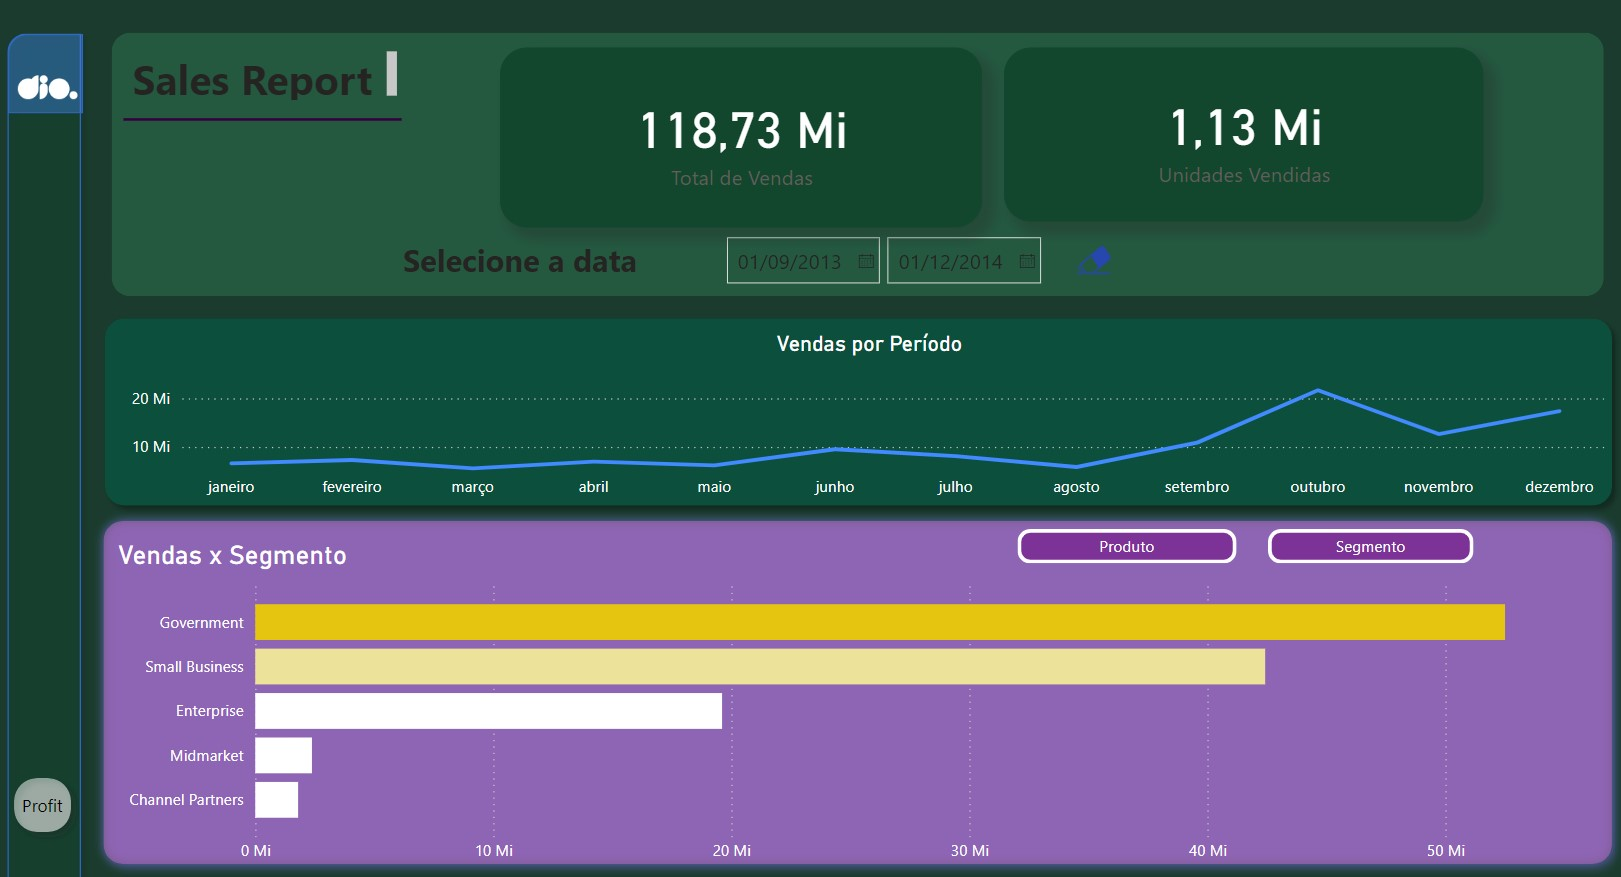

The page's visual inventory and layout, read from the dashboard file:
{"tool":"powerbi","page":{"name":"Principal","canvas":[1280,720],"ordinal":0},"visuals":[{"type":"shape","box":[90.3,41,1166.3,206.3],"z":0,"group":"g3"},{"type":"shape","box":[75.8,256,1195.6,164.1],"z":0,"group":"g2"},{"type":"shape","box":[75,413.8,1196.8,286],"z":0},{"type":"shape","box":[100.1,92,217.6,32.7],"z":1000,"group":"g3"},{"type":"lineChart","title":"Vendas por Período","fields":{"Category":["financials.Date.Variation.Hierarquia de datas.Trimestre","financials.Date.Variation.Hierarquia de datas.Mês"],"Y":["Sum(financials. Sales)"]},"box":[100.2,274.9,1163.4,139.2],"z":1000,"group":"g2"},{"type":"group","id":"g1","title":"Sales x Segmento","box":[90.3,426.7,1164,271.9],"z":1000},{"type":"clusteredBarChart","title":"Vendas x Segmento","fields":{"Category":["financials.Segment"],"Y":["Sum(financials. Sales)"]},"box":[90.3,437.8,1155.1,260.8],"z":1000,"group":"g1"},{"type":"slicer","fields":{"Values":["financials.Date"]},"box":[557.7,191,273.4,55.5],"z":2000,"group":"g3"},{"type":"group","id":"g2","title":"Perspectiva temporal das vendas","box":[75.8,256,1195.6,164.1],"z":2000},{"type":"actionButton","title":"Botão - Segmento","box":[993.7,429.4,160.6,27],"z":2000,"group":"g1"},{"type":"group","id":"g3","title":"Filtro por data","box":[90.3,41,1166.3,206.3],"z":3000},{"type":"textbox","box":[312.8,196.7,239,49.2],"z":3000,"group":"g3"},{"type":"actionButton","title":"Botão - Produto","box":[798,429.4,171.1,27],"z":3000,"group":"g1"},{"type":"shape","box":[0,33.2,75.4,686.9],"z":4000},{"type":"textbox","box":[101.6,50.8,216.2,48.4],"z":5000,"group":"g3"},{"type":"shape","box":[9.4,42.2,58.6,62.1],"z":6000},{"type":"actionButton","box":[1195.6,54.6,60.1,51.2],"z":6000,"group":"g3"},{"type":"image","box":[12,64.5,57.3,39.2],"z":7000},{"type":"image","title":"clean","box":[827.2,200.2,61.2,36.3],"z":8000,"group":"g3"},{"type":"actionButton","box":[4.7,614.2,63.3,61],"z":8000},{"type":"card","fields":{"Values":["Sum(financials. Sales)"]},"box":[394.2,52.5,376.7,140.5],"z":11000,"group":"g3"},{"type":"card","fields":{"Values":["Sum(financials.Units Sold)"]},"box":[787.4,52.5,374.4,135.8],"z":14500,"group":"g3"}]}

Visuals, with their boxes on the page's 1280x720 design canvas (x1, y1, x2, y2). These are canvas units, not pixel positions in the 1621x877 screenshot, which may show the page scaled, cropped or inside an application window:
shape: [left=90, top=41, right=1257, bottom=247]
shape: [left=76, top=256, right=1271, bottom=420]
shape: [left=75, top=414, right=1272, bottom=700]
shape: [left=100, top=92, right=318, bottom=125]
"Vendas por Período" lineChart: [left=100, top=275, right=1264, bottom=414]
"Sales x Segmento" group: [left=90, top=427, right=1254, bottom=699]
"Vendas x Segmento" clusteredBarChart: [left=90, top=438, right=1245, bottom=699]
slicer - financials.Date: [left=558, top=191, right=831, bottom=246]
"Perspectiva temporal das vendas" group: [left=76, top=256, right=1271, bottom=420]
"Botão - Segmento" actionButton: [left=994, top=429, right=1154, bottom=456]
"Filtro por data" group: [left=90, top=41, right=1257, bottom=247]
textbox: [left=313, top=197, right=552, bottom=246]
"Botão - Produto" actionButton: [left=798, top=429, right=969, bottom=456]
shape: [left=0, top=33, right=75, bottom=720]
textbox: [left=102, top=51, right=318, bottom=99]
shape: [left=9, top=42, right=68, bottom=104]
actionButton: [left=1196, top=55, right=1256, bottom=106]
image: [left=12, top=64, right=69, bottom=104]
"clean" image: [left=827, top=200, right=888, bottom=236]
actionButton: [left=5, top=614, right=68, bottom=675]
card - Sum(financials. Sales): [left=394, top=52, right=771, bottom=193]
card - Sum(financials.Units Sold): [left=787, top=52, right=1162, bottom=188]
